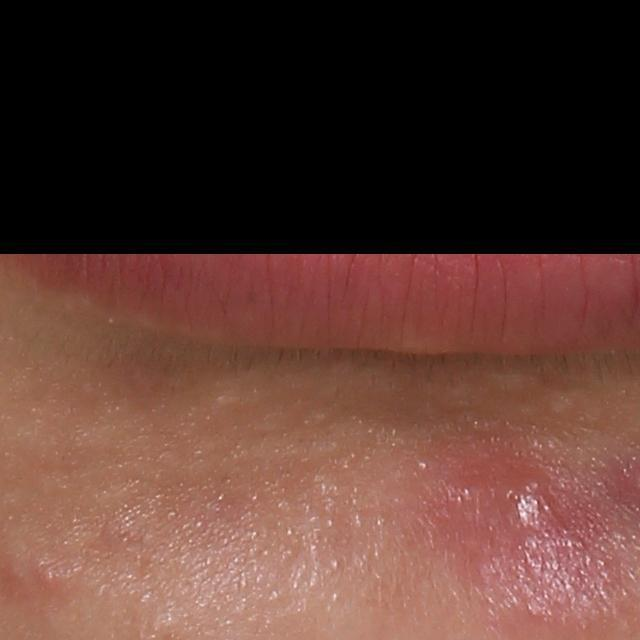hypertrophic_scar: (186, 385, 250, 417), (543, 388, 587, 419), (489, 370, 533, 392)
papule: (498, 467, 552, 530), (35, 552, 71, 592)
